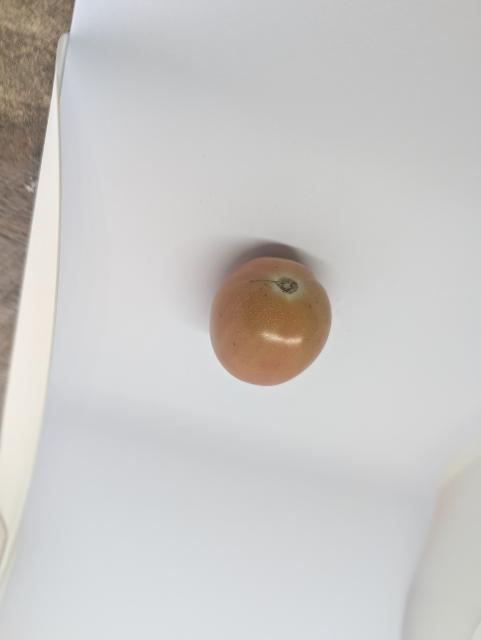turning: (205, 250, 336, 398)
